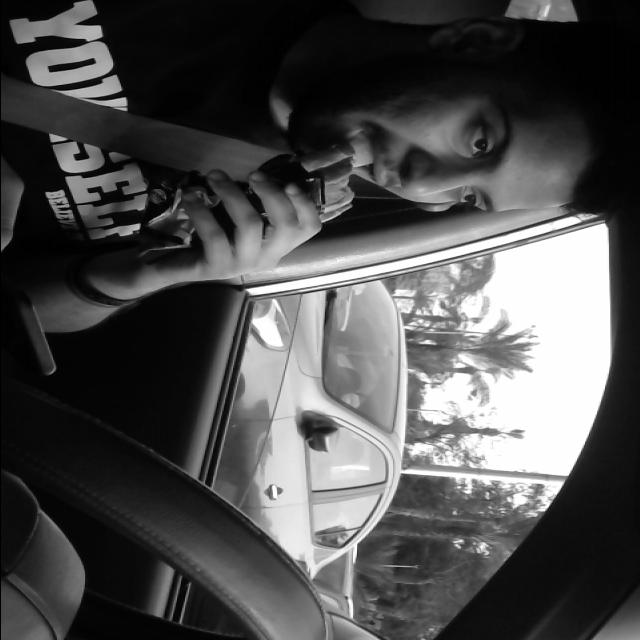eating: (178, 130, 366, 250)
mobile use: (0, 202, 61, 394)
